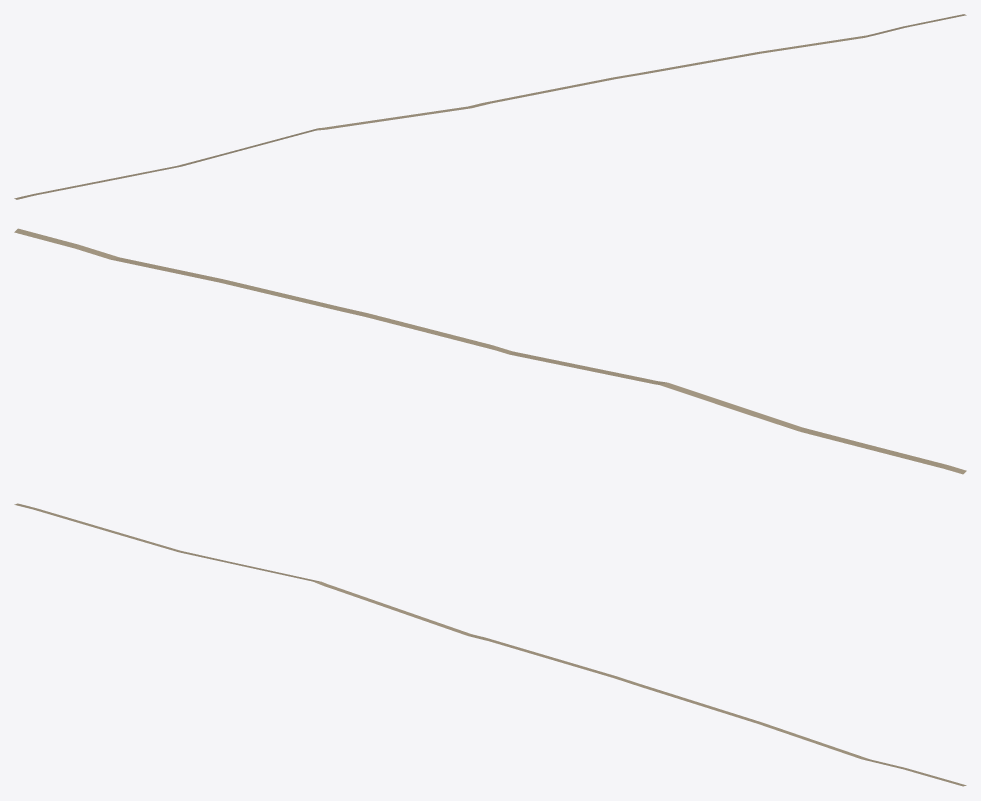
Rendered from farm_-35_-26_track.glb.
The picture shows the model from 3 angles, top to bottom: view 1: azimuth 30°, elevation 25°; view 2: azimuth 150°, elevation 25°; view 3: azimuth 330°, elevation 25°; orthographic projection. The views are drawn at different scales.
Visible parts, largest first — view 1: geometry_0; view 2: geometry_0; view 3: geometry_0.
Boxes of the visible parts, <box> form: geometry_0: <box>14,14,966,199</box>; geometry_0: <box>14,228,966,474</box>; geometry_0: <box>14,503,966,786</box>.
Bounding box in the file's own units: 525 × 14.04 × 32.21.
